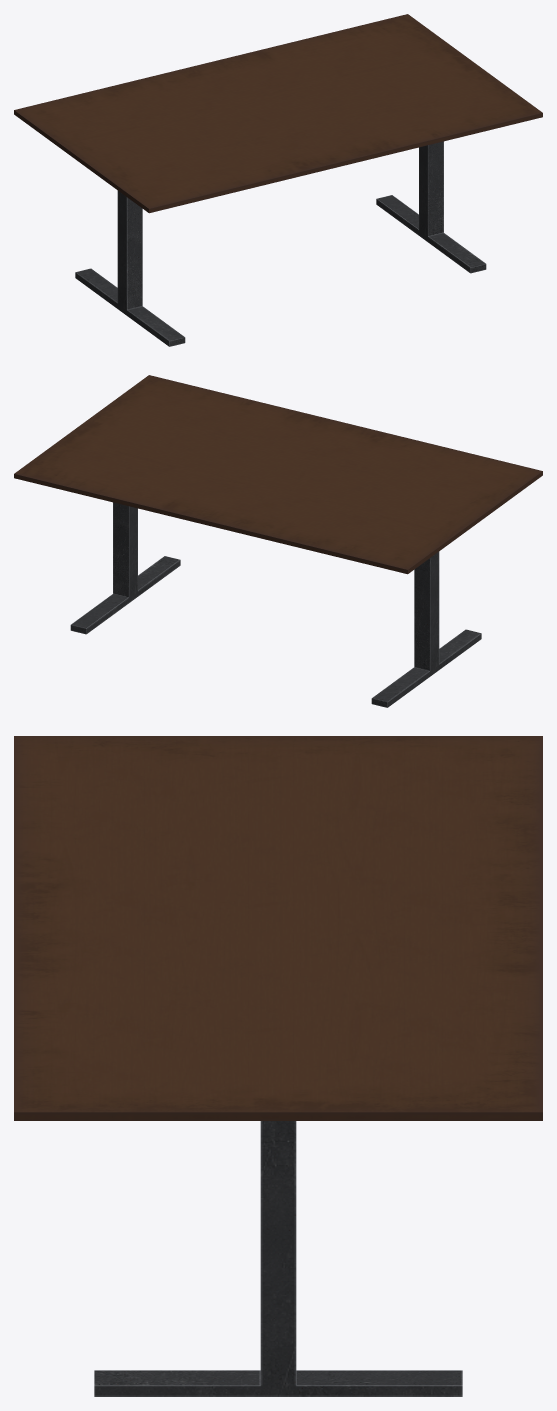
The model's file is Desk.fbx.
The picture shows the model from 3 angles, top to bottom: view 1: azimuth 30°, elevation 25°; view 2: azimuth 150°, elevation 25°; view 3: azimuth 270°, elevation 25°; orthographic projection. The views are drawn at different scales.
Parts seen in each view (by area): view 1: Cube.001; view 2: Cube.001; view 3: Cube.001.
Boxes of the visible parts, <box> form: Cube.001: <box>14,14,542,346</box>; Cube.001: <box>14,375,542,707</box>; Cube.001: <box>14,736,542,1396</box>.
Size of the model in its own units: 798 by 315 by 474.
Materials: 2 (2 with a texture image).
